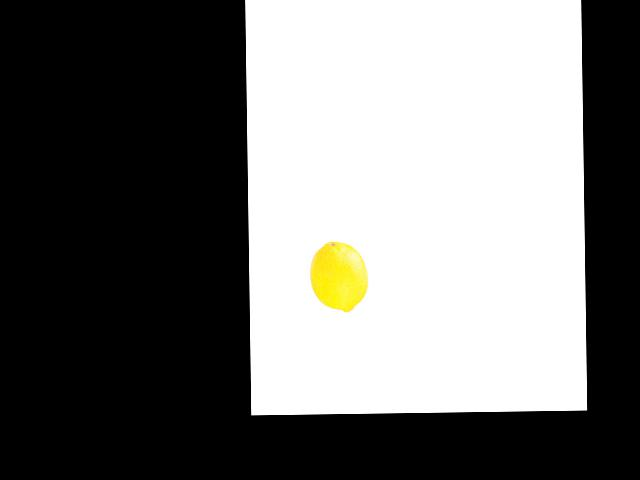lemon: (308, 240, 370, 314)
